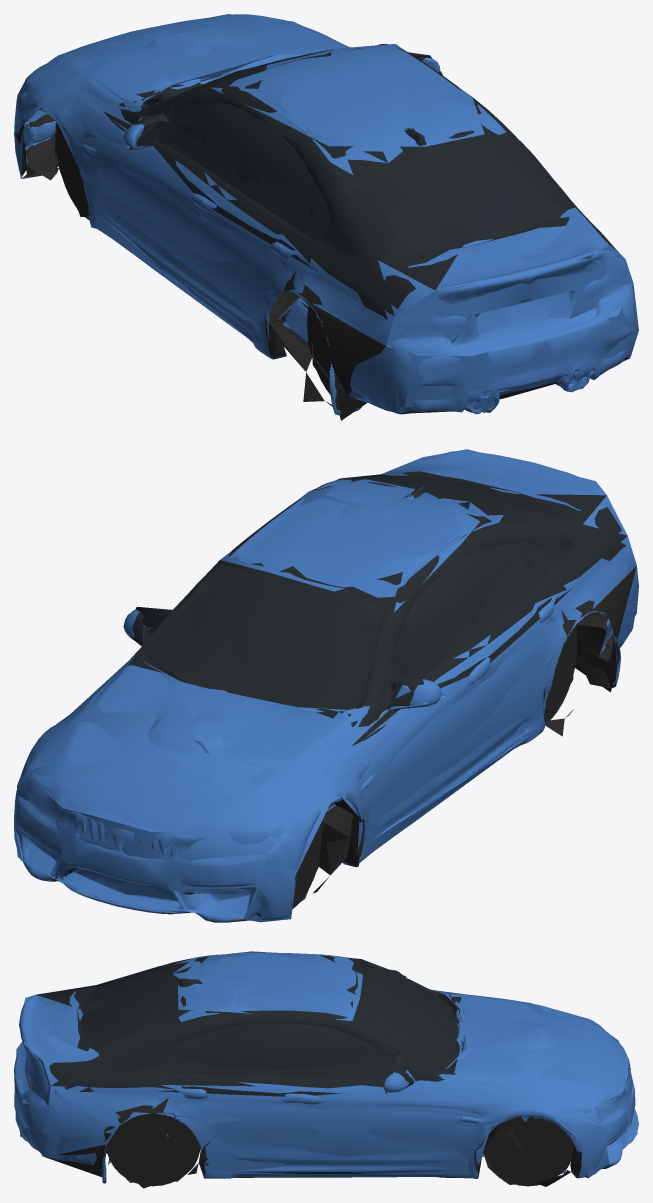
Rendered from bmw-m.glb.
3 views of the same model, one above another, from view 1: azimuth 30°, elevation 25°; view 2: azimuth 150°, elevation 25°; view 3: azimuth 270°, elevation 25° (orthographic). The views are drawn at different scales.
Visible parts, largest first — view 1: body, far; view 2: body, far; view 3: body, far.
Boxes of the visible parts, x1,y1,x2,y2 form: body: (14, 14, 634, 415); far: (14, 14, 638, 420); body: (14, 451, 637, 922); far: (15, 449, 638, 922); body: (14, 953, 638, 1186); far: (16, 951, 637, 1188).
Size of the model in its own units: 2.06 by 1.45 by 4.75.
